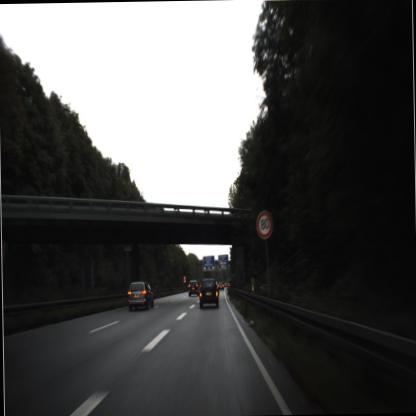prohibitory: (254, 208, 272, 242)
